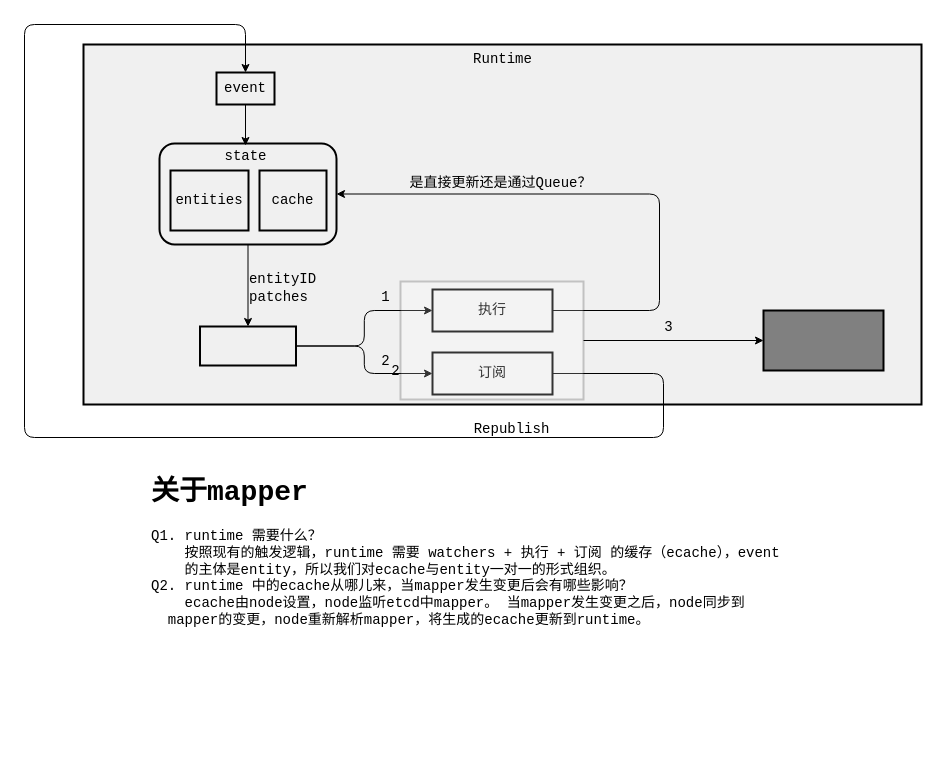
The diagram is 940 pixels wide and 780 high, and some of its shapes have lost their labels. The shapes that lost their labels are listed below. From the top down, each one's centre as x and y in pixels, then its label:
At point 247,345: "watchers".
At point 823,340: "Callback".
